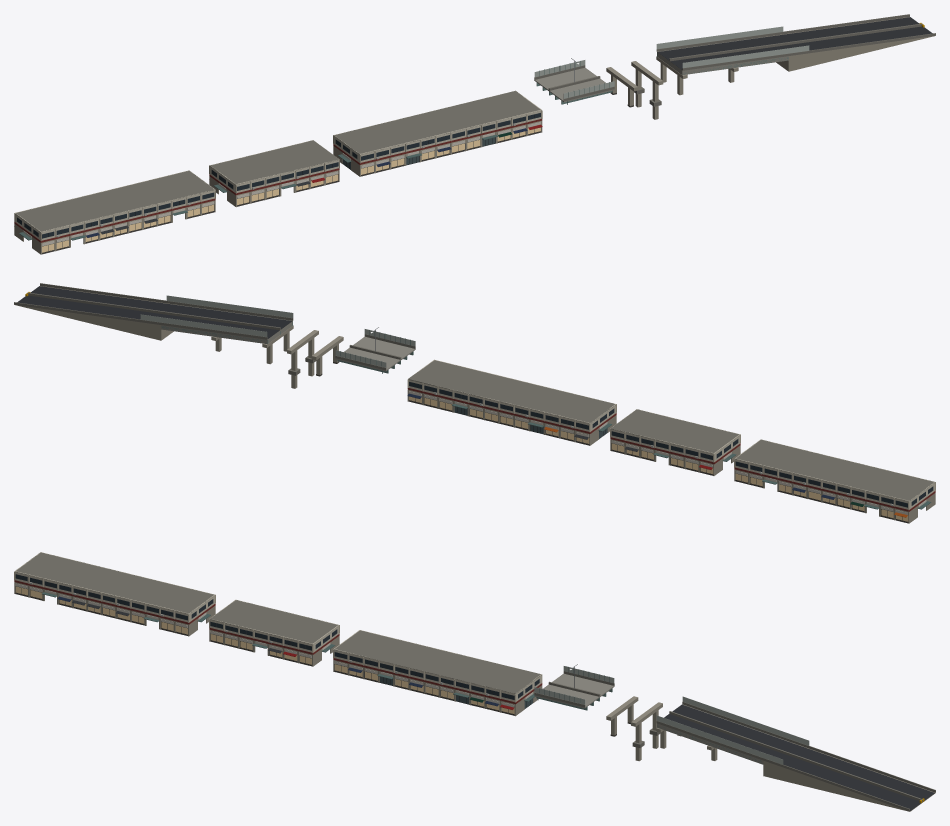
The model's file is watacentre.glb.
3 renders of one model, top to bottom at view 1: azimuth 30°, elevation 25°; view 2: azimuth 150°, elevation 25°; view 3: azimuth 330°, elevation 25°, orthographic.
Parts seen in each view (by area): view 1: watacentre_ramp_body, watacentre_hall_far_body, watacentre_hall_e_body, watacentre_hall_w_body, watacentre_deck_body, watacentre_pier_sea_body; view 2: watacentre_ramp_body, watacentre_hall_far_body, watacentre_hall_e_body, watacentre_hall_w_body, watacentre_deck_body, watacentre_pier_sea_body; view 3: watacentre_ramp_body, watacentre_hall_far_body, watacentre_hall_e_body, watacentre_hall_w_body, watacentre_deck_body, watacentre_pier_sea_body.
Part boxes in pixels (box(x1,y1,x2,y2)): watacentre_ramp_body: box(656, 14, 935, 95); watacentre_hall_far_body: box(333, 90, 542, 176); watacentre_hall_e_body: box(14, 170, 215, 254); watacentre_hall_w_body: box(209, 140, 339, 207); watacentre_deck_body: box(534, 57, 614, 104); watacentre_pier_sea_body: box(631, 61, 663, 119); watacentre_ramp_body: box(14, 283, 293, 364); watacentre_hall_far_body: box(407, 359, 616, 445); watacentre_hall_e_body: box(734, 439, 935, 523); watacentre_hall_w_body: box(610, 409, 740, 475); watacentre_deck_body: box(335, 326, 415, 373); watacentre_pier_sea_body: box(287, 330, 318, 388); watacentre_ramp_body: box(656, 696, 935, 811); watacentre_hall_far_body: box(333, 630, 542, 716); watacentre_hall_e_body: box(14, 552, 215, 636); watacentre_hall_w_body: box(209, 599, 339, 666); watacentre_deck_body: box(534, 663, 614, 710); watacentre_pier_sea_body: box(631, 702, 662, 761).
Bounding box in the file's own units: 355 × 26.3 × 21.
